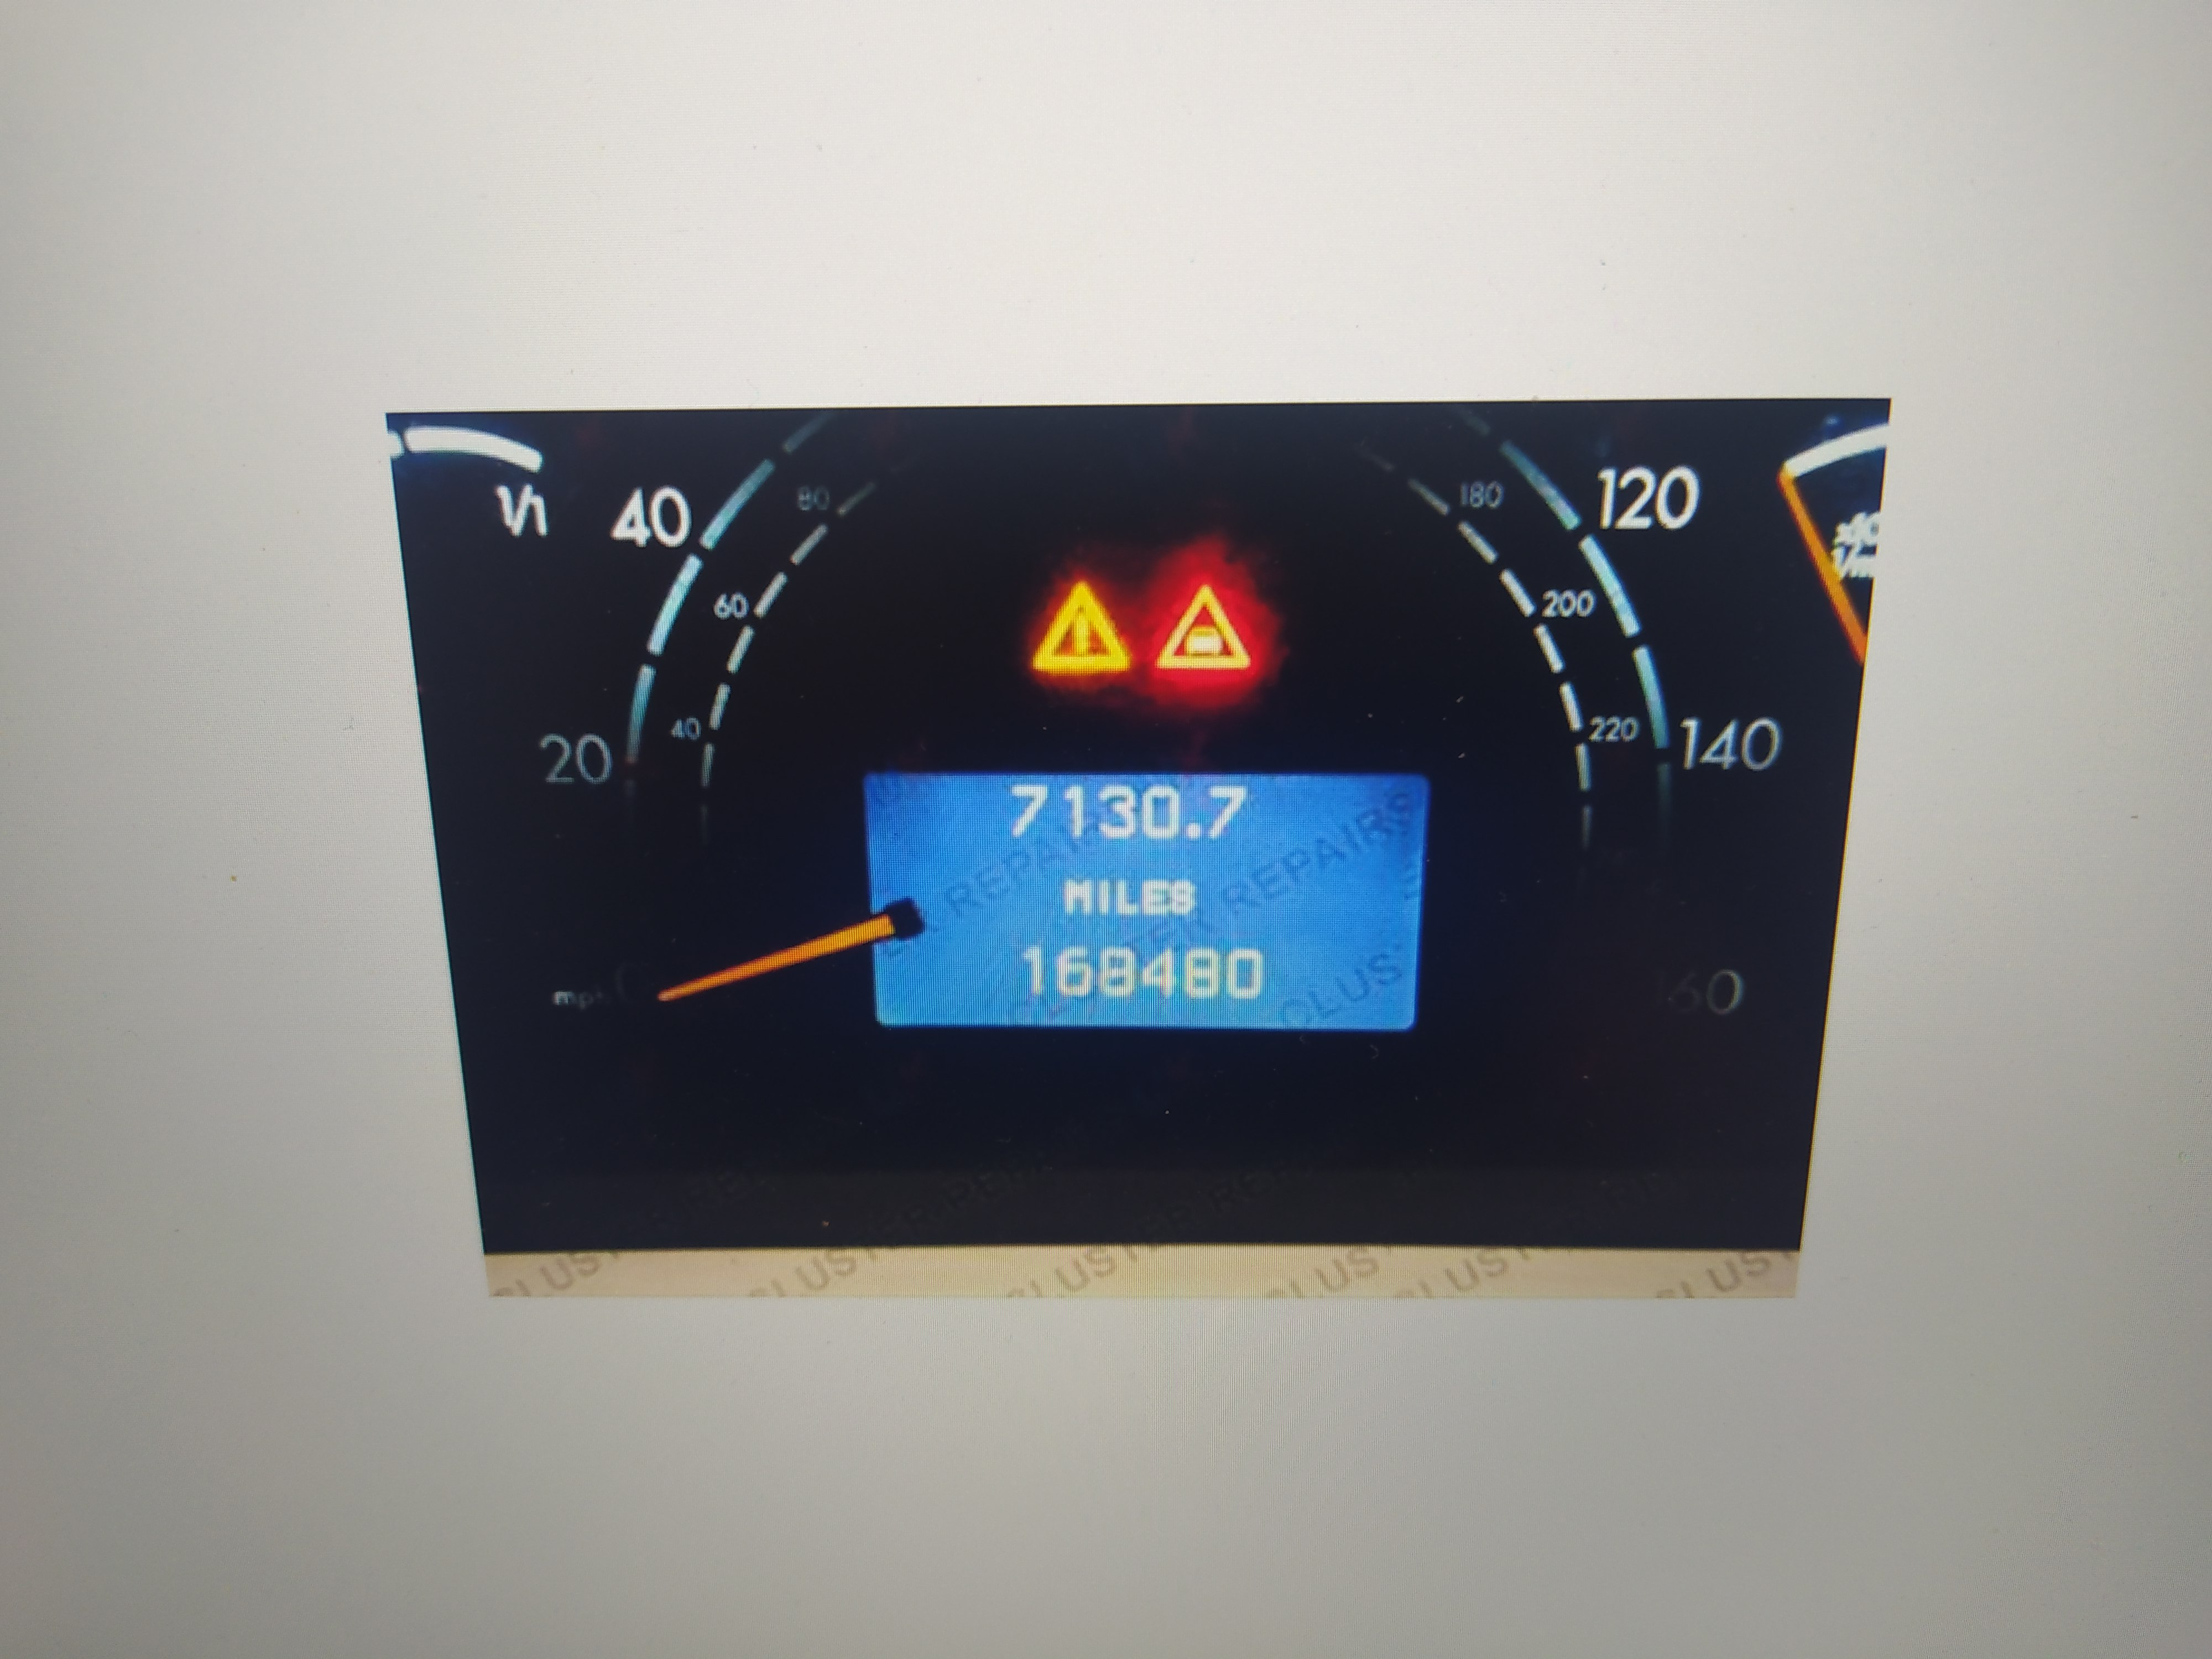.: (1186, 786, 1202, 840)
0: (1655, 467, 1700, 530), (650, 484, 693, 547), (575, 732, 617, 784), (1141, 786, 1181, 840), (1742, 718, 1782, 772), (1226, 950, 1263, 999), (1486, 479, 1505, 509), (730, 591, 749, 620), (1559, 589, 1576, 619), (1578, 589, 1595, 619), (813, 486, 833, 512), (794, 486, 813, 511), (685, 716, 704, 741), (1622, 714, 1639, 741)
1: (1595, 467, 1615, 530), (1022, 945, 1045, 995), (1066, 786, 1083, 840), (1681, 718, 1698, 770), (1458, 481, 1470, 509)
2: (1616, 467, 1656, 528), (536, 734, 575, 782), (1540, 589, 1557, 619), (1588, 716, 1606, 742), (1606, 716, 1622, 742)
3: (1097, 784, 1137, 840)
4: (608, 486, 651, 549), (1700, 718, 1738, 770), (1143, 948, 1177, 997), (667, 718, 685, 741)
6: (1055, 946, 1094, 997), (712, 592, 732, 619)
7: (1207, 786, 1249, 842), (1008, 784, 1050, 836)
8: (1184, 948, 1221, 1000), (1099, 946, 1136, 997), (1170, 880, 1198, 915), (1470, 479, 1486, 509)
